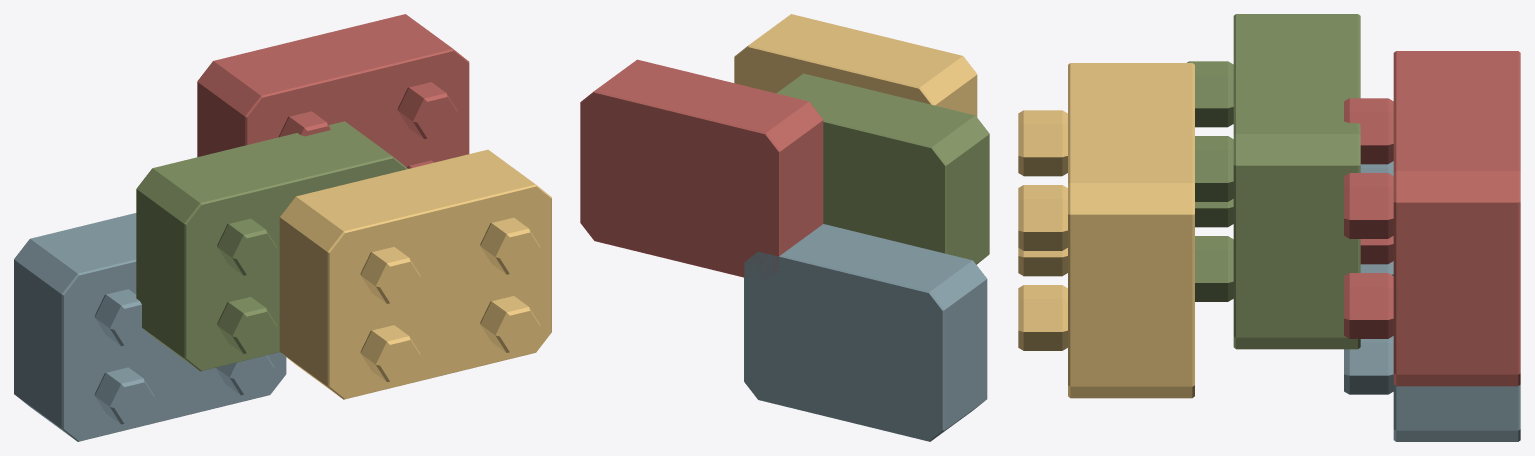
Rendered from building_blocks.glb.
3 renders of one model, left to right at view 1: azimuth 30°, elevation 25°; view 2: azimuth 150°, elevation 25°; view 3: azimuth 270°, elevation 25°, orthographic. The views are drawn at different scales.
Visible parts, largest first — view 1: building_blocks; view 2: building_blocks; view 3: building_blocks.
Boxes of the visible parts, box(x1,y1,x2,y2) form: building_blocks: box(14, 14, 551, 441); building_blocks: box(580, 14, 989, 441); building_blocks: box(1018, 14, 1520, 441).
Size of the model in its own units: 0.109 by 0.077 by 0.091.
